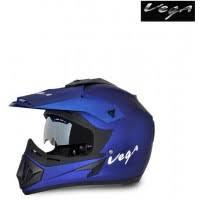helmet: (21, 79, 154, 200)
